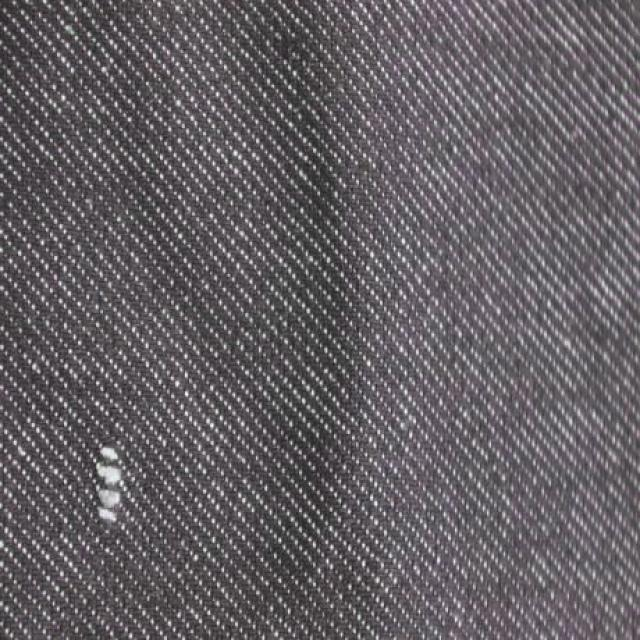Thread_other: (48, 372, 158, 550)
